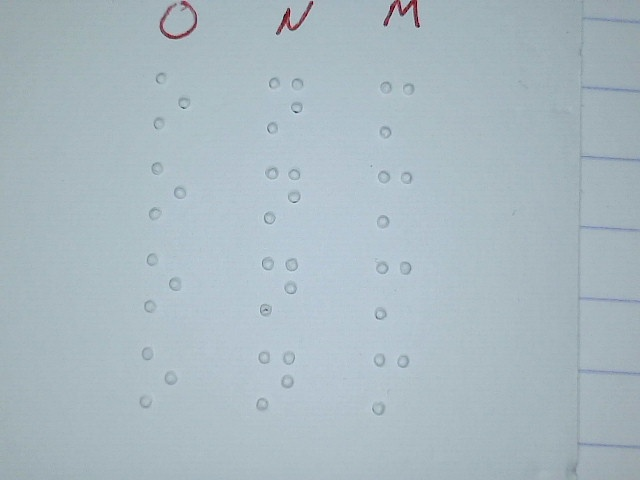M: (371, 351, 410, 415), (378, 79, 417, 139), (375, 169, 414, 229), (374, 259, 413, 319)
N: (255, 349, 296, 411), (266, 74, 305, 134), (263, 164, 302, 224), (259, 256, 298, 316)
O: (139, 345, 179, 408), (152, 70, 191, 130), (148, 161, 187, 221), (144, 252, 183, 312)
